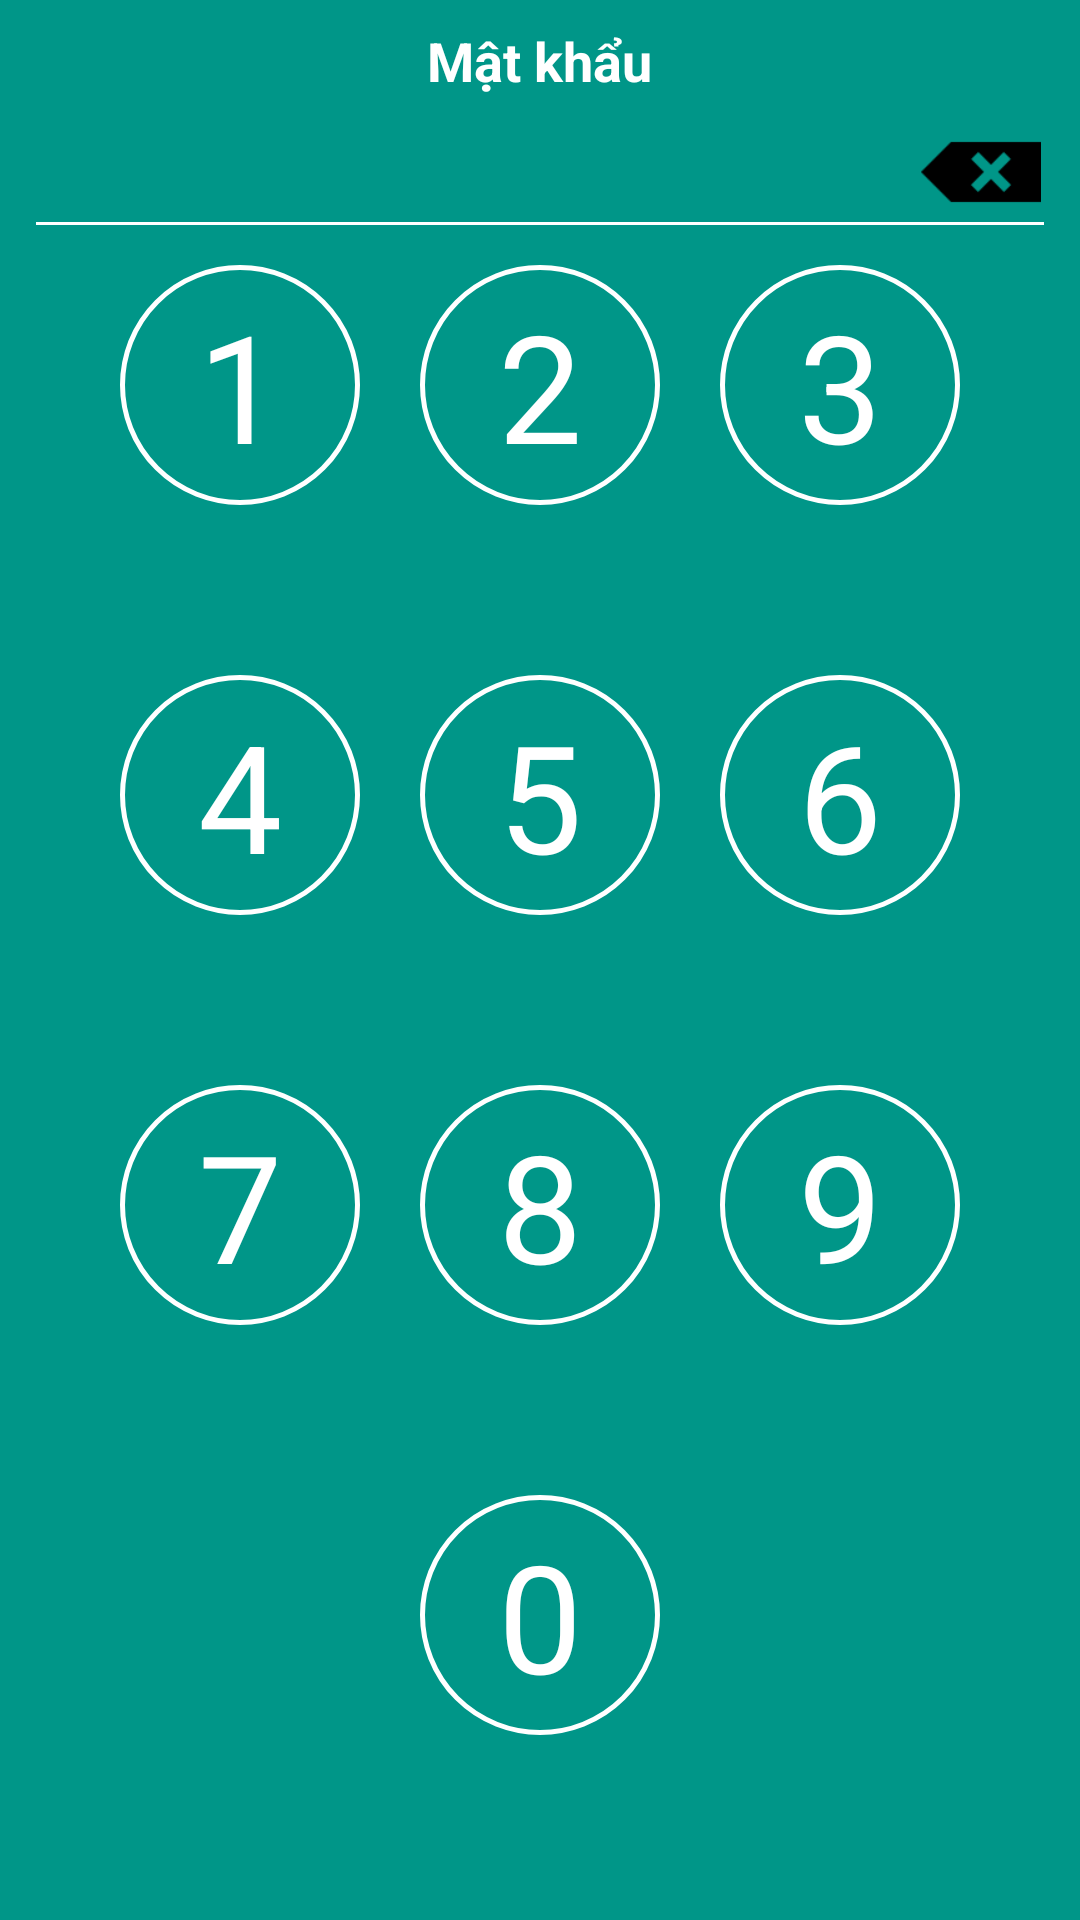

Icons on this 1080 × 1920 Android screen, each with the point to tap as [x,y]:
clear: [981,172]
